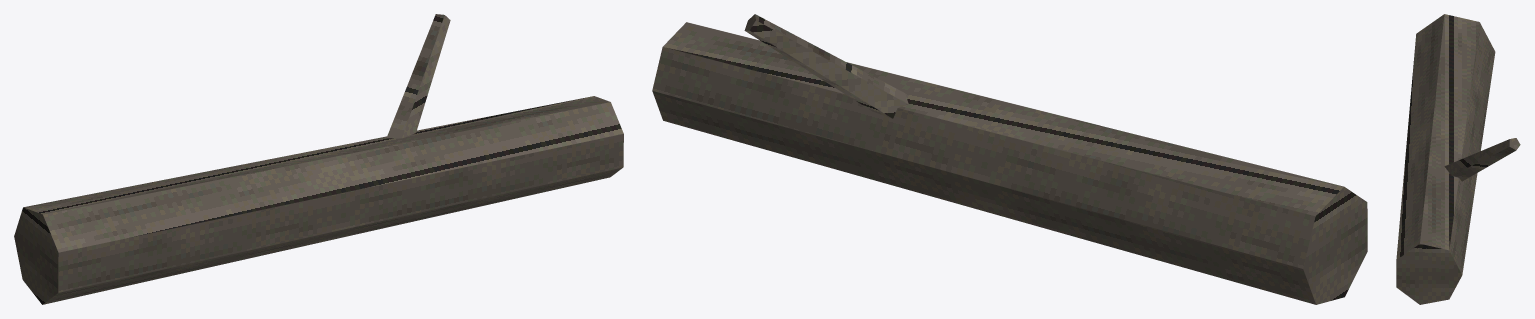
The model's file is tronco.obj.
3 views of the same model, side by side, from view 1: azimuth 30°, elevation 25°; view 2: azimuth 150°, elevation 25°; view 3: azimuth 270°, elevation 25° (orthographic). The views are drawn at different scales.
Parts seen in each view (by area): view 1: tronco; view 2: tronco; view 3: tronco.
Part boxes in pixels (x1=…): tronco: x1=14, y1=14, x2=623, y2=304; tronco: x1=652, y1=14, x2=1367, y2=304; tronco: x1=1396, y1=14, x2=1520, y2=304.
Size of the model in its own units: 3.02 by 0.7925 by 0.7143.
1 material, 1 textured.
